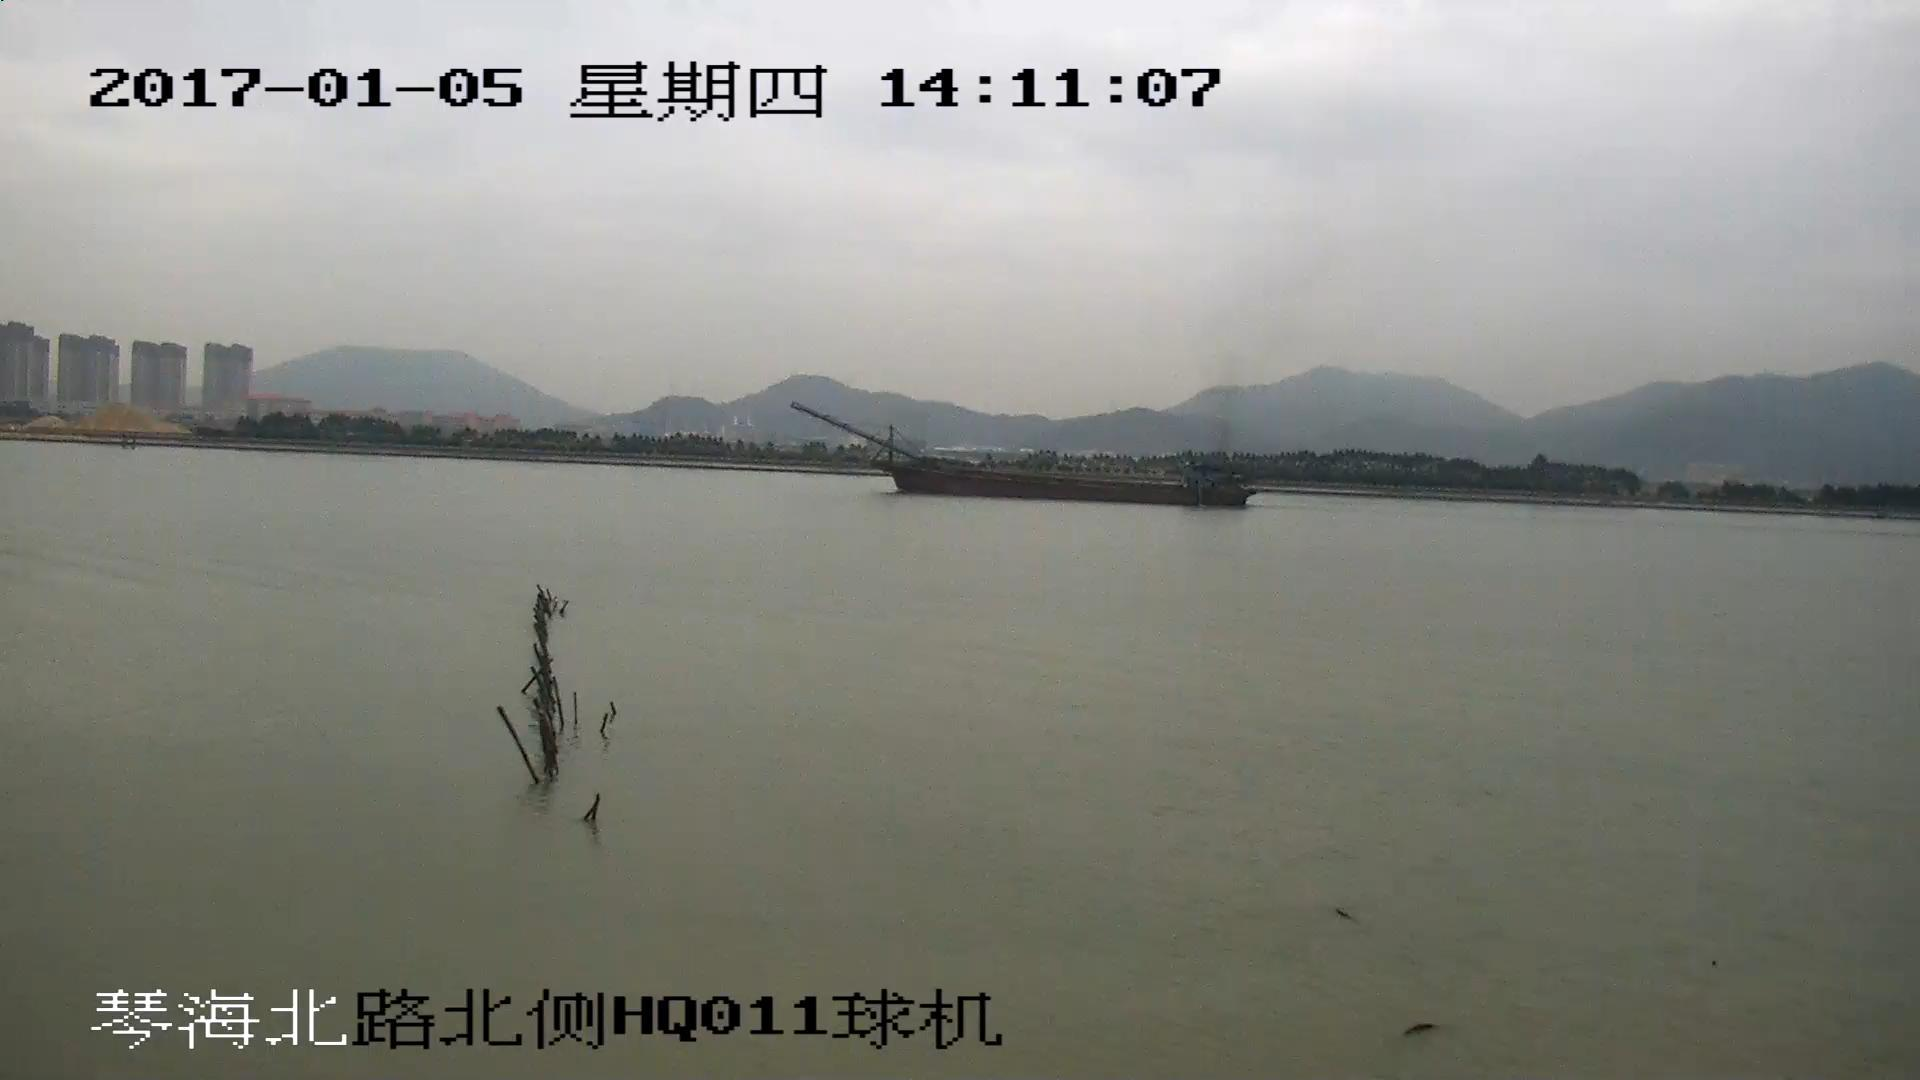Ship: (789, 402, 1249, 509)
